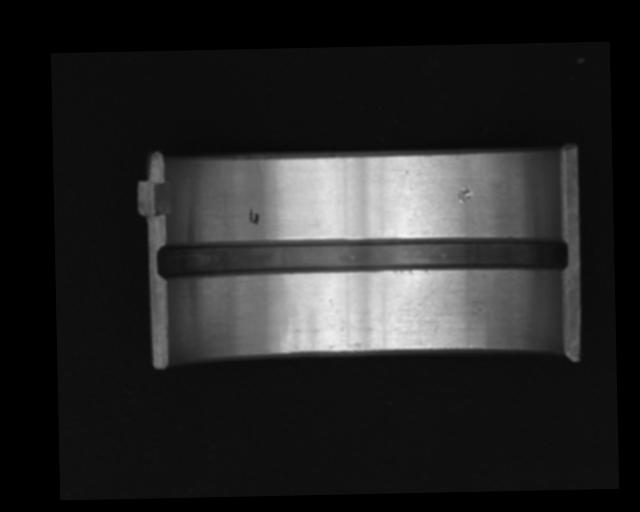blot: (248, 207, 259, 226)
bruise: (455, 185, 473, 203)
gap: (157, 232, 569, 279)
